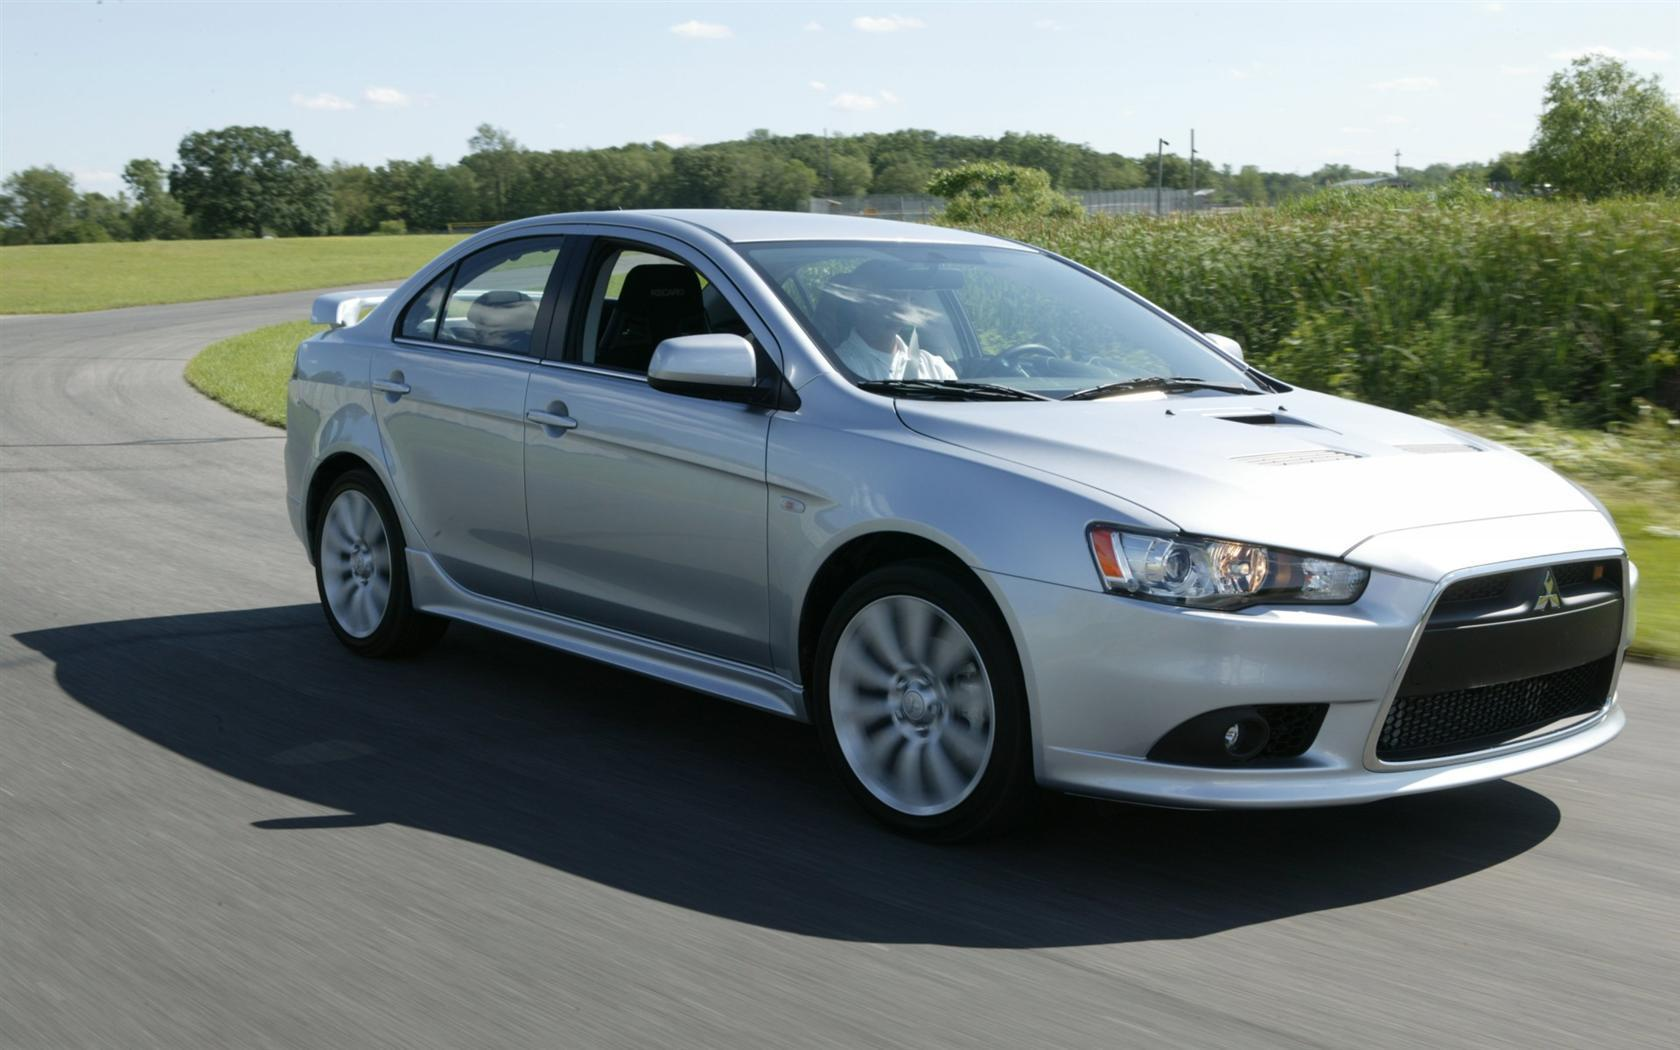Mitsubishi: (1514, 556, 1590, 630)
